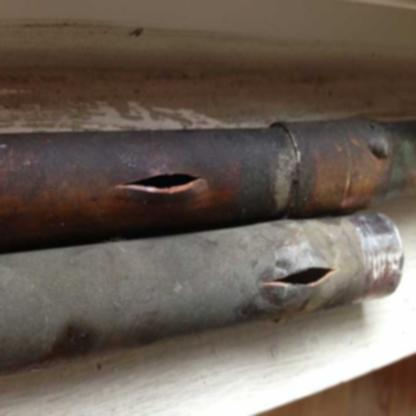burst: (111, 160, 219, 201), (258, 262, 340, 293)
